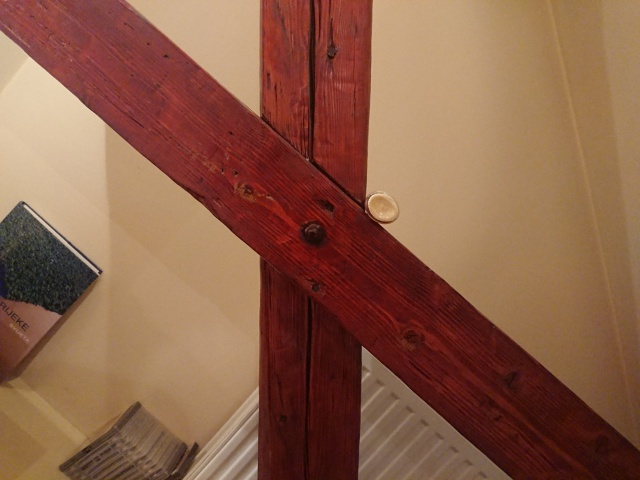Kotanyi Garlic Granules 70g: (363, 189, 401, 225)
